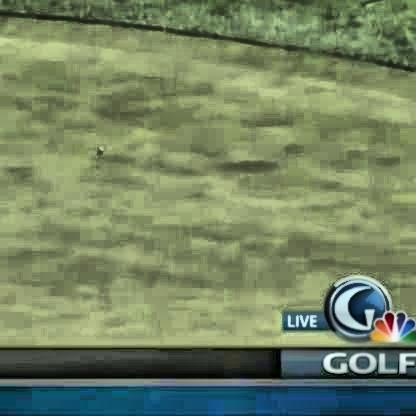golfball: (93, 146, 104, 153)
